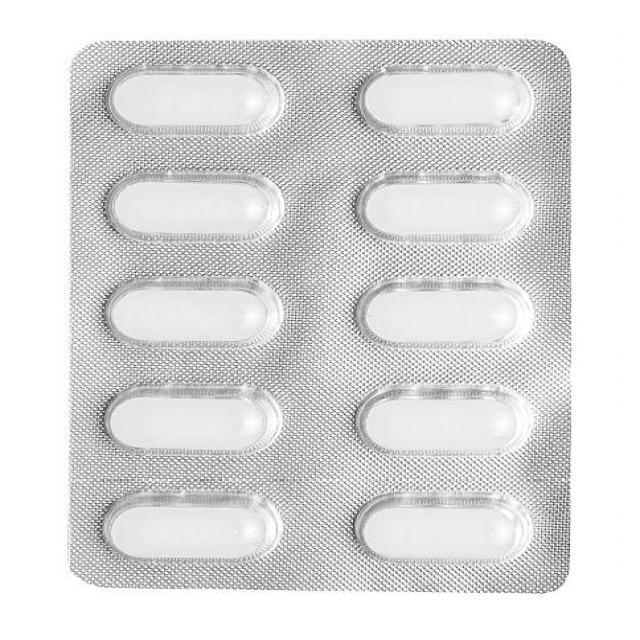Pill: (103, 50, 294, 144), (103, 162, 290, 251), (100, 486, 287, 569), (102, 271, 286, 353), (357, 168, 537, 251), (352, 275, 533, 356), (354, 489, 534, 569), (103, 381, 284, 459), (356, 379, 530, 459), (356, 63, 534, 141)
